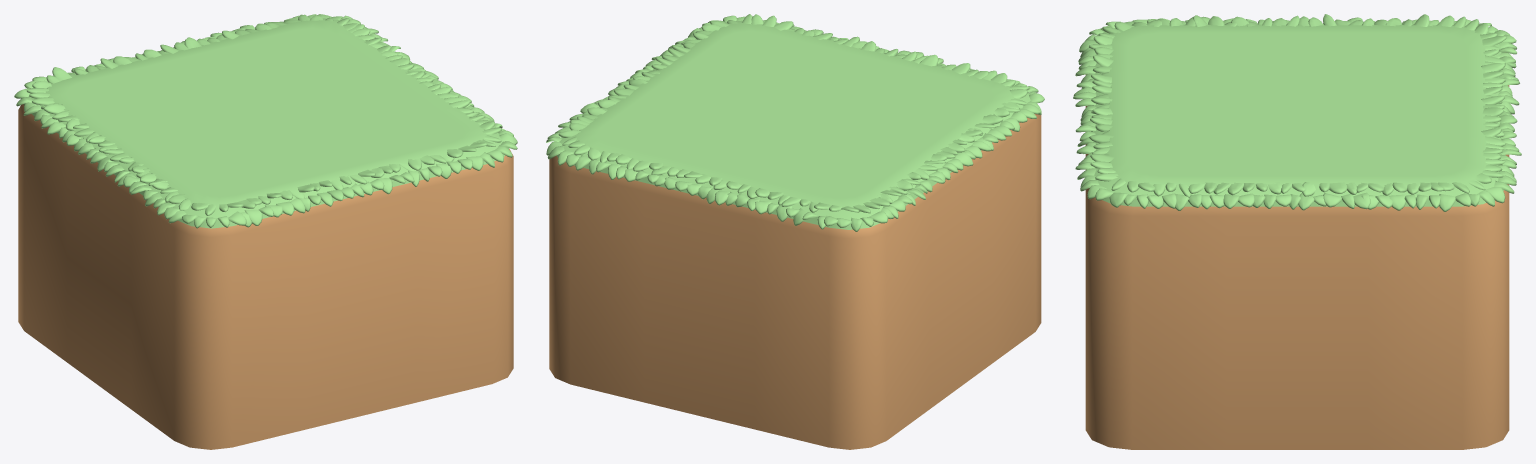
File: Cliffs_3x3.fbx
3 views of the same model, side by side, from view 1: azimuth 30°, elevation 25°; view 2: azimuth 150°, elevation 25°; view 3: azimuth 270°, elevation 25° (orthographic). The views are drawn at different scales.
Visible parts, largest first — view 1: 3x3_Cliff, 3x3_Blades; view 2: 3x3_Cliff, 3x3_Blades; view 3: 3x3_Cliff, 3x3_Blades.
Boxes of the visible parts, bbox=[...] form: 3x3_Cliff: bbox=[18, 18, 513, 449]; 3x3_Blades: bbox=[14, 14, 517, 228]; 3x3_Cliff: bbox=[549, 20, 1041, 449]; 3x3_Blades: bbox=[546, 14, 1044, 231]; 3x3_Cliff: bbox=[1085, 24, 1509, 449]; 3x3_Blades: bbox=[1073, 14, 1521, 211].
Size of the model in its own units: 317 by 204 by 318.
